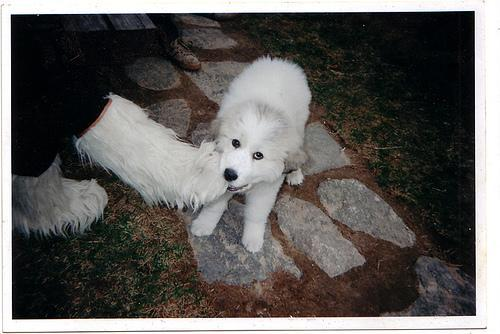Great_Pyrenees: (187, 56, 314, 254)
